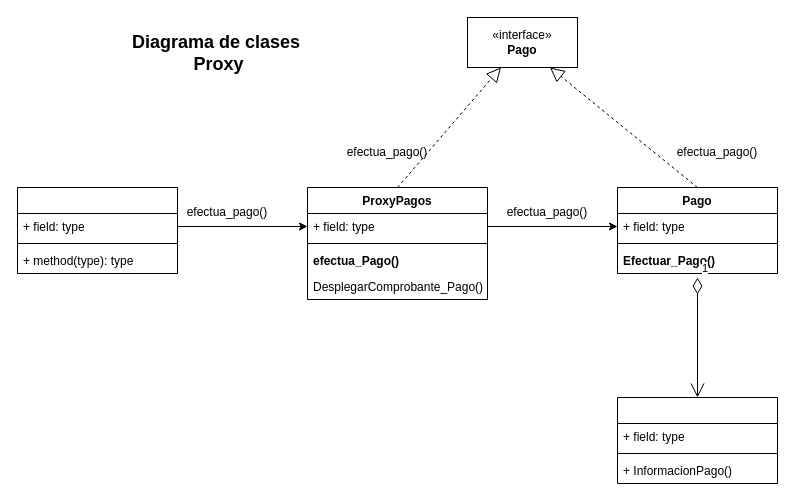
Some shapes in this 795 by 504 pixel diagram are drawn without their labels. The shapes that lost their labels are listed below. From the top down, each one's box as (x1, y1, x2, y2) in pixels, then its label:
(16, 186, 178, 274): Index(Cliente)
(616, 396, 778, 484): Recibo
